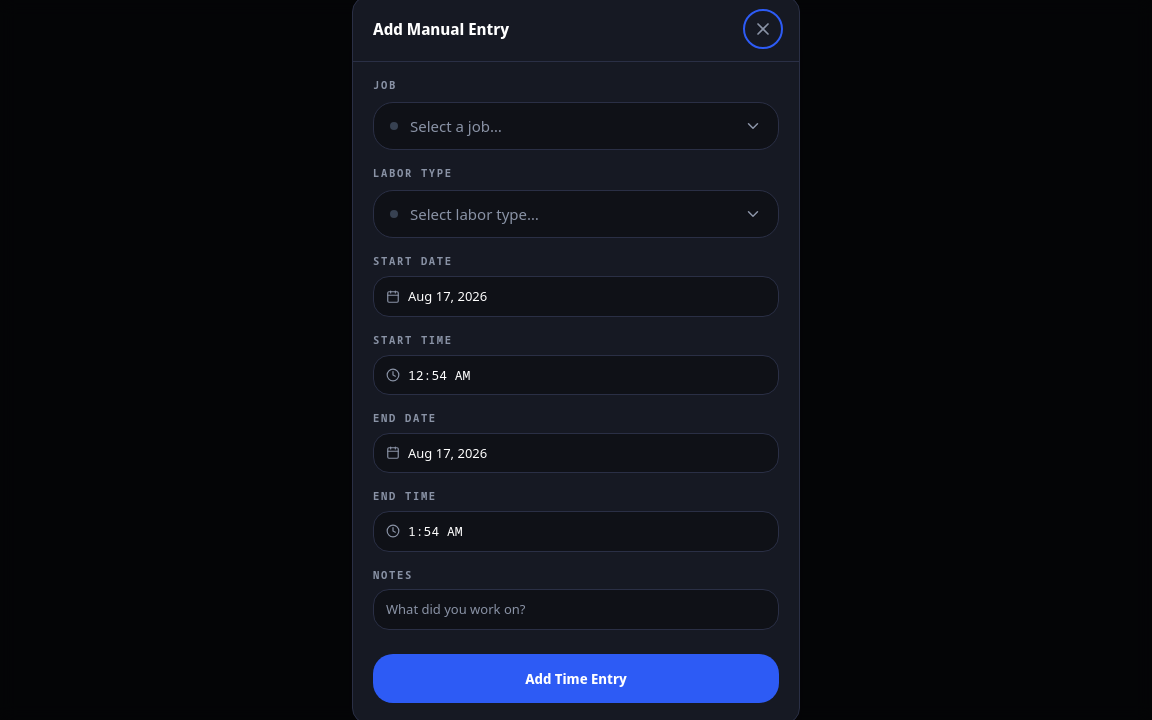
it: EditEntryModal — validation › shows "Please select a job" when no job is selected
Click the button "Add Time Entry" at (576, 678), box [373,654,779,703]
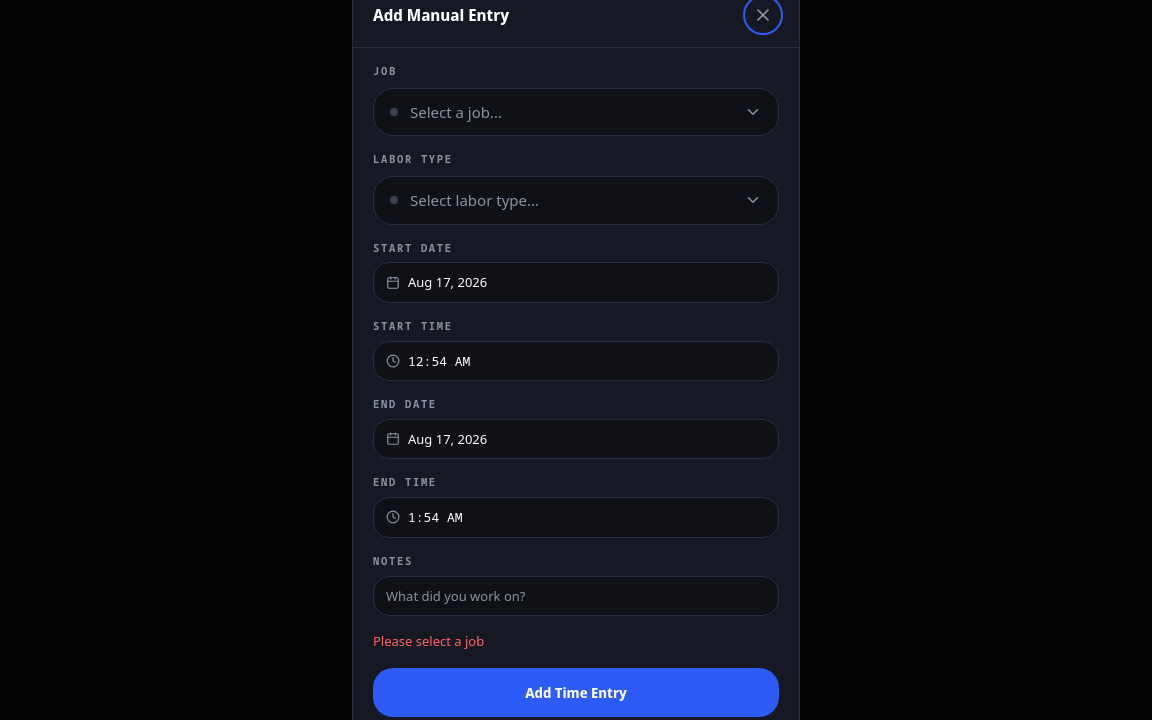
Check: the text "Please select a job" is shown, box [373,632,484,650]
